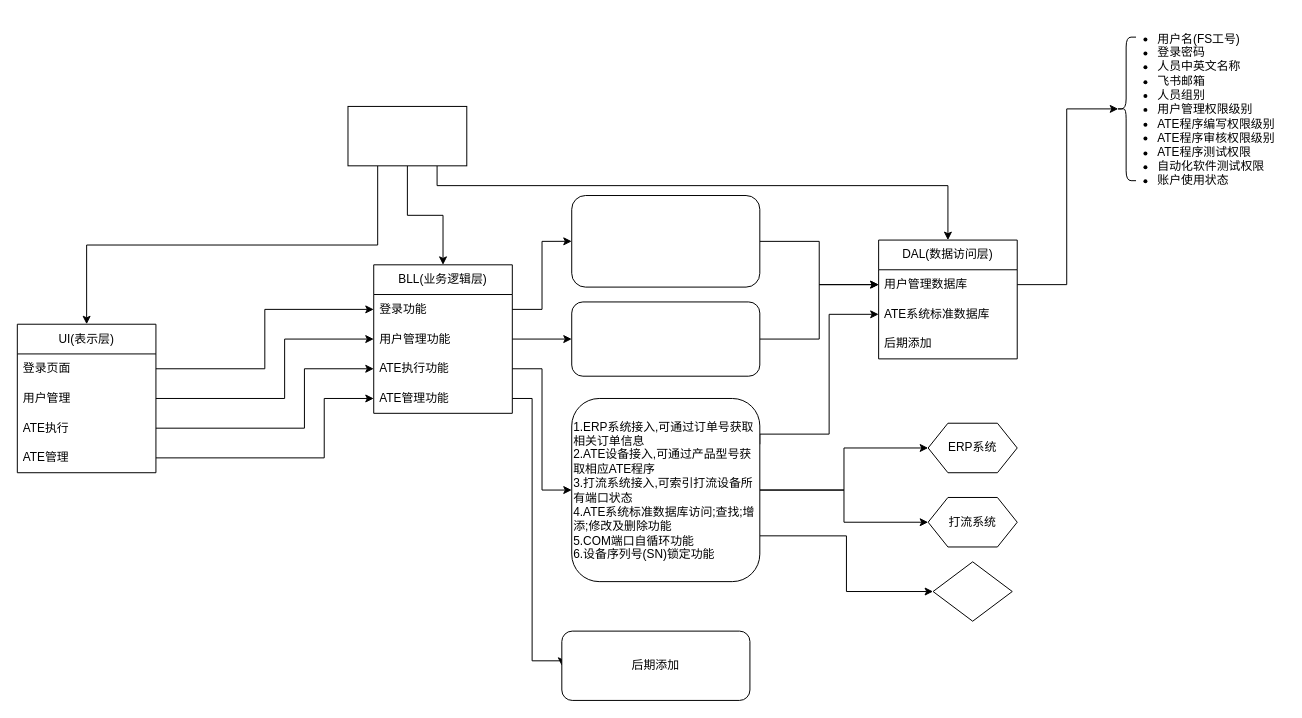
This 1302x718 diagram has some shape labels left out. The shapes that lost their labels are listed below. From the top down, each one's centre as x and y in pixels, then its label:
(x=407, y=135): ATE设备管理平台
(x=665, y=241): 1.用户管理数据库访问及查找功能 2.用户名及密码识别功能 3.本地密码缓存功能 4.本地登录状态缓存功能 5.密码找回及相关信息识别功能
(x=665, y=338): 1.用户管理数据库访问;查找;增添;修改及删除功能 2.用户权限分离功能 3.本地用户权限缓存功能
(x=972, y=591): ATE设备
